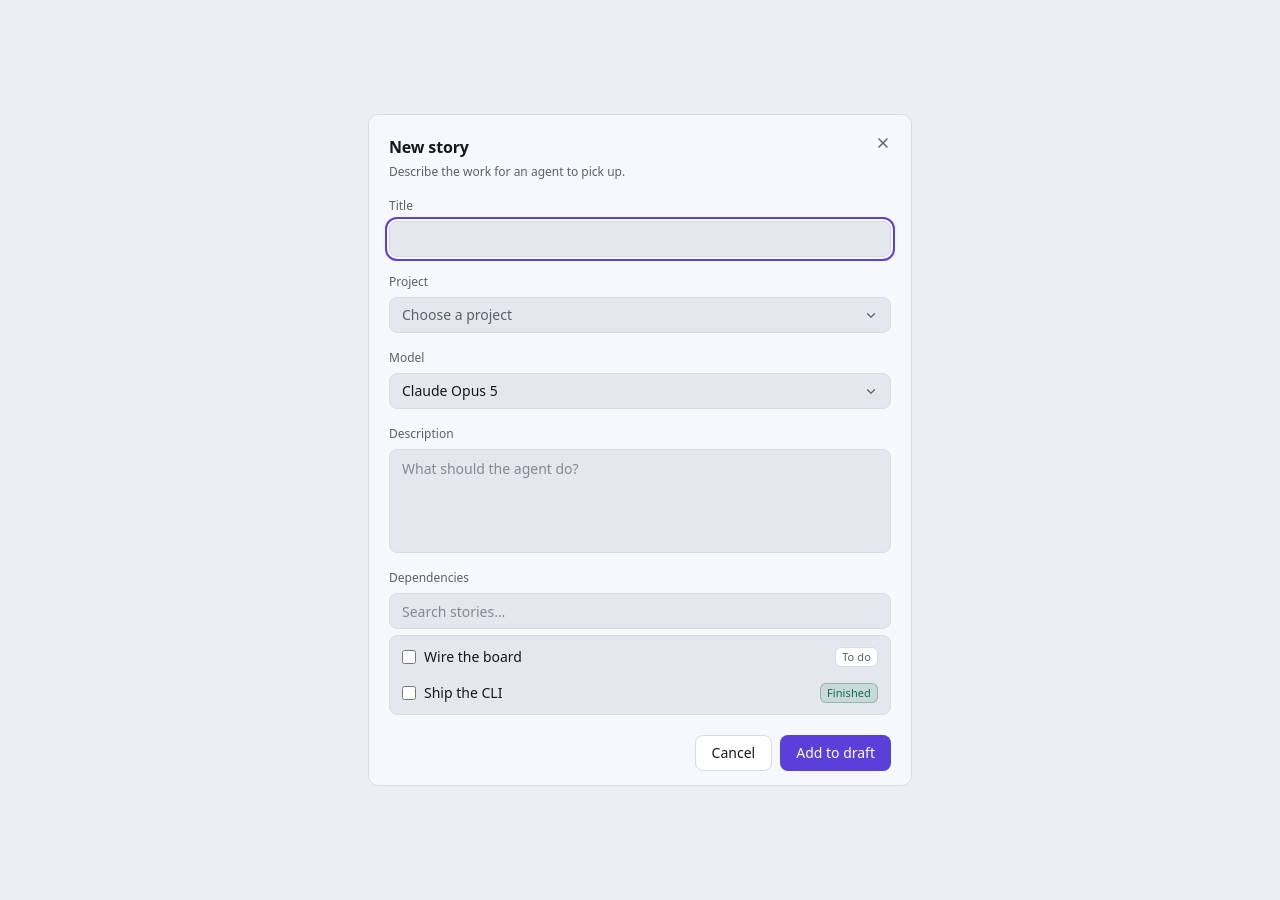
Test case: StoryFormDialog — create › requires a title and a project
Click the button "Add to draft" at (836, 753), box [780,735,891,771]
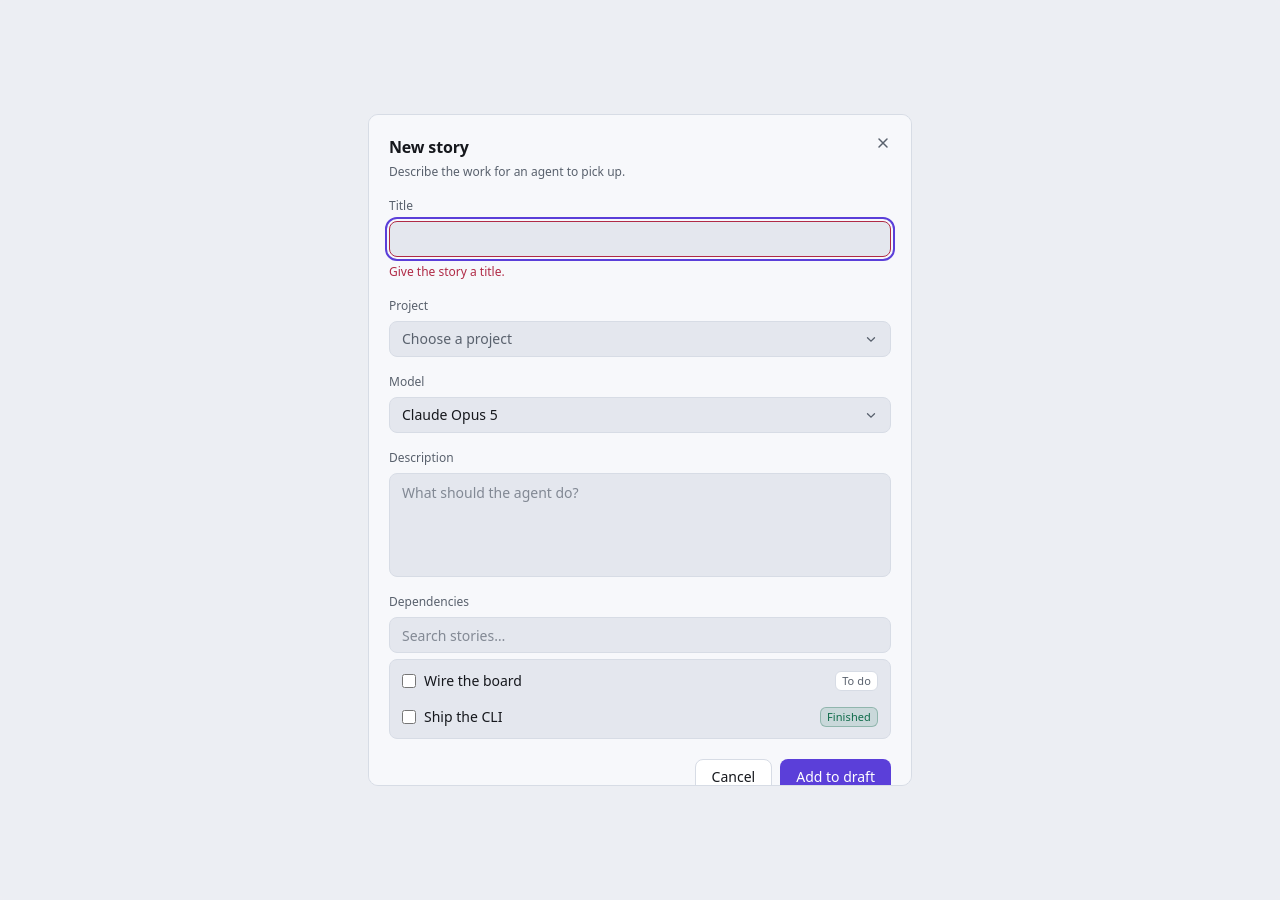
Expected: the text "Give the story a title." is shown, [389,263,505,280]
Type "New story" into the field labelled "Title" at (640, 239), box [389,221,891,257]
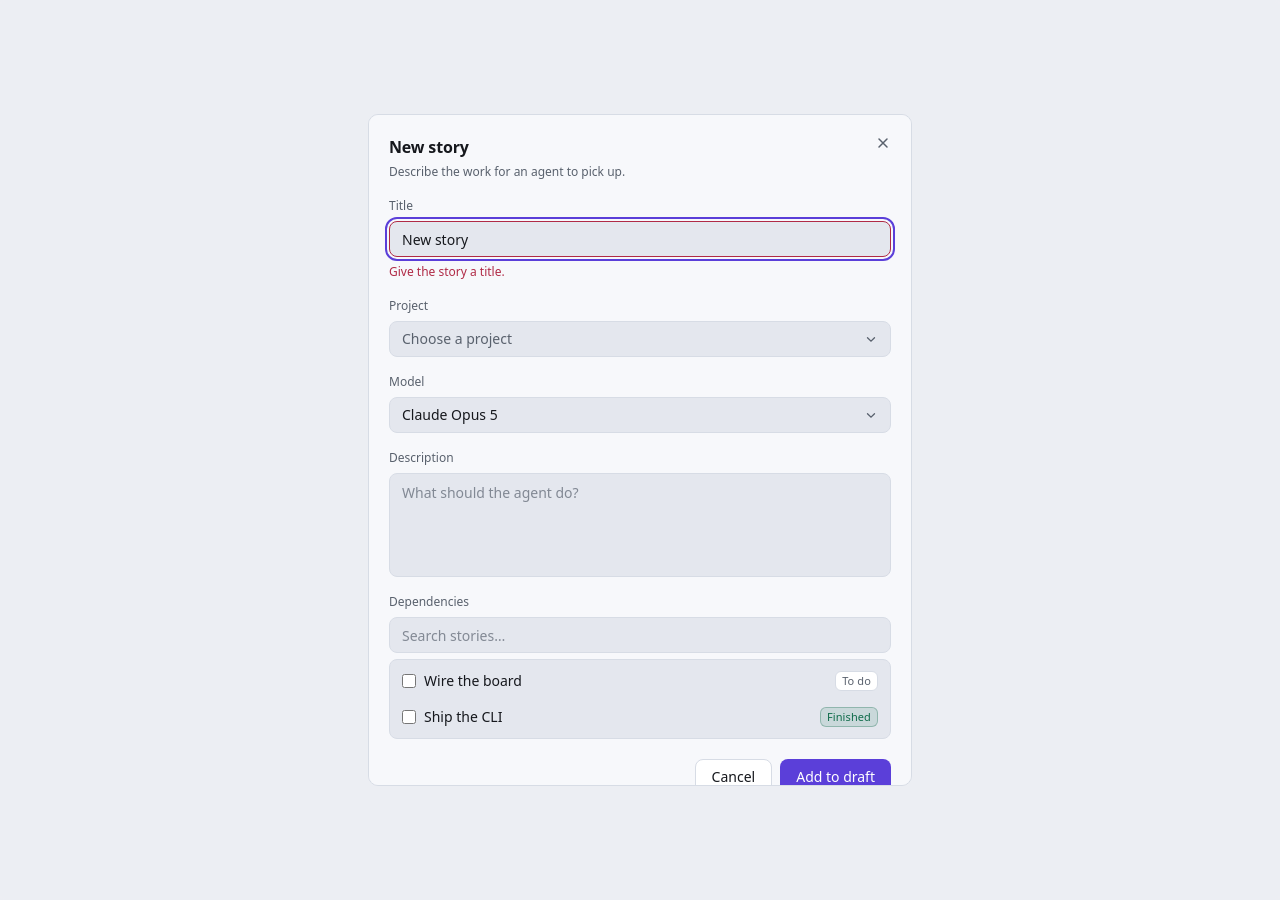
Click the button "Add to draft" at (836, 777), box [780,759,891,795]
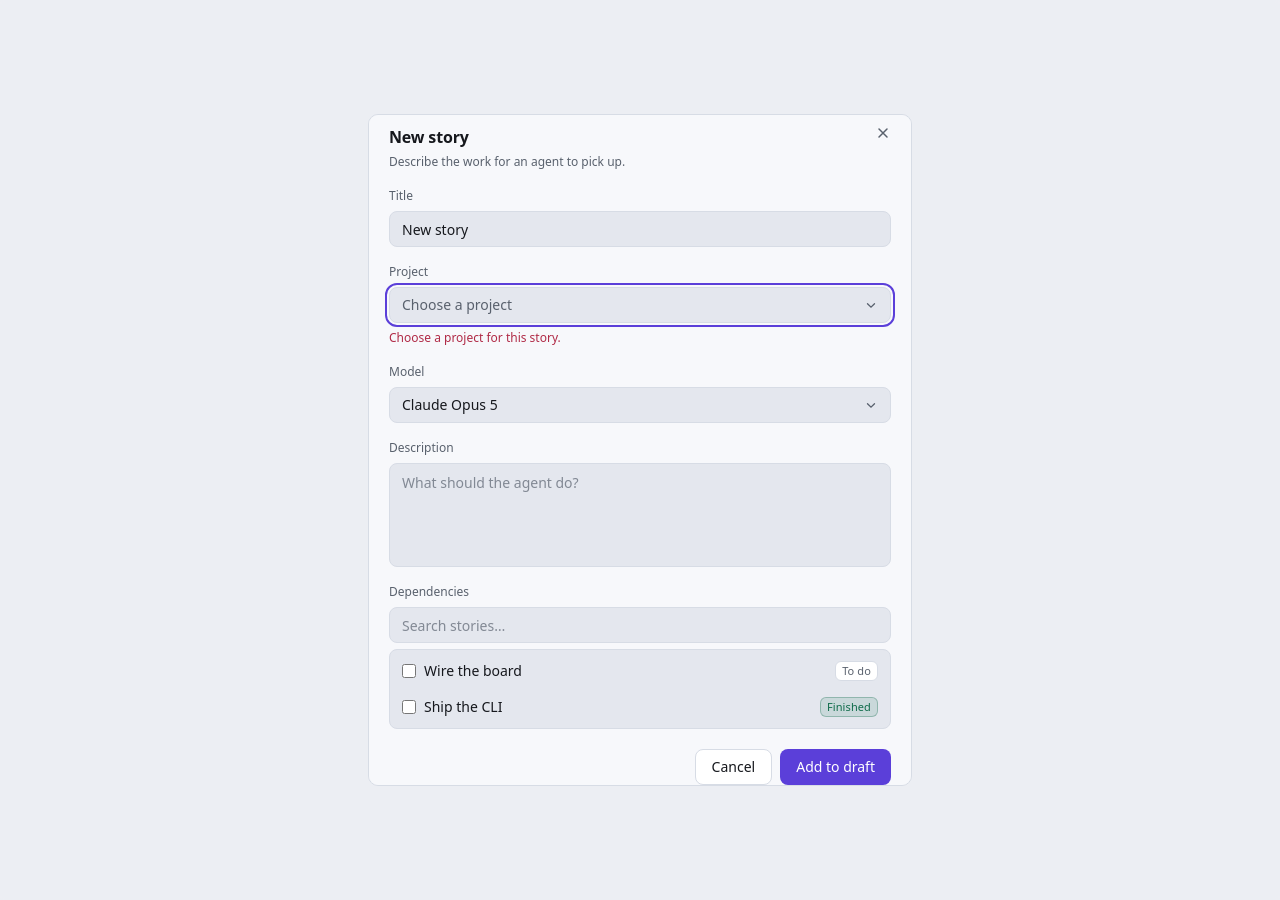
Expected: the text "Choose a project for this story." is shown, [389,329,561,346]
